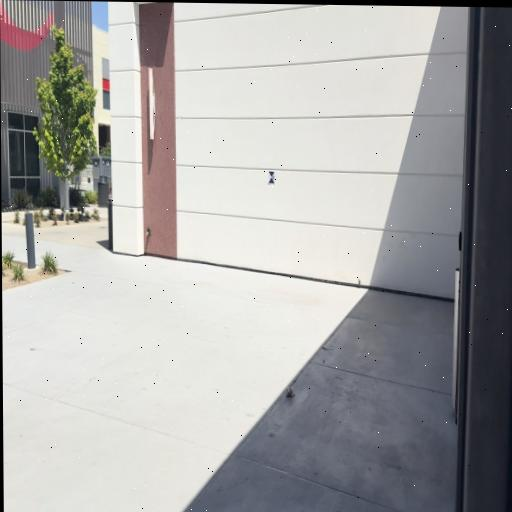target0: (268, 170, 275, 185)
